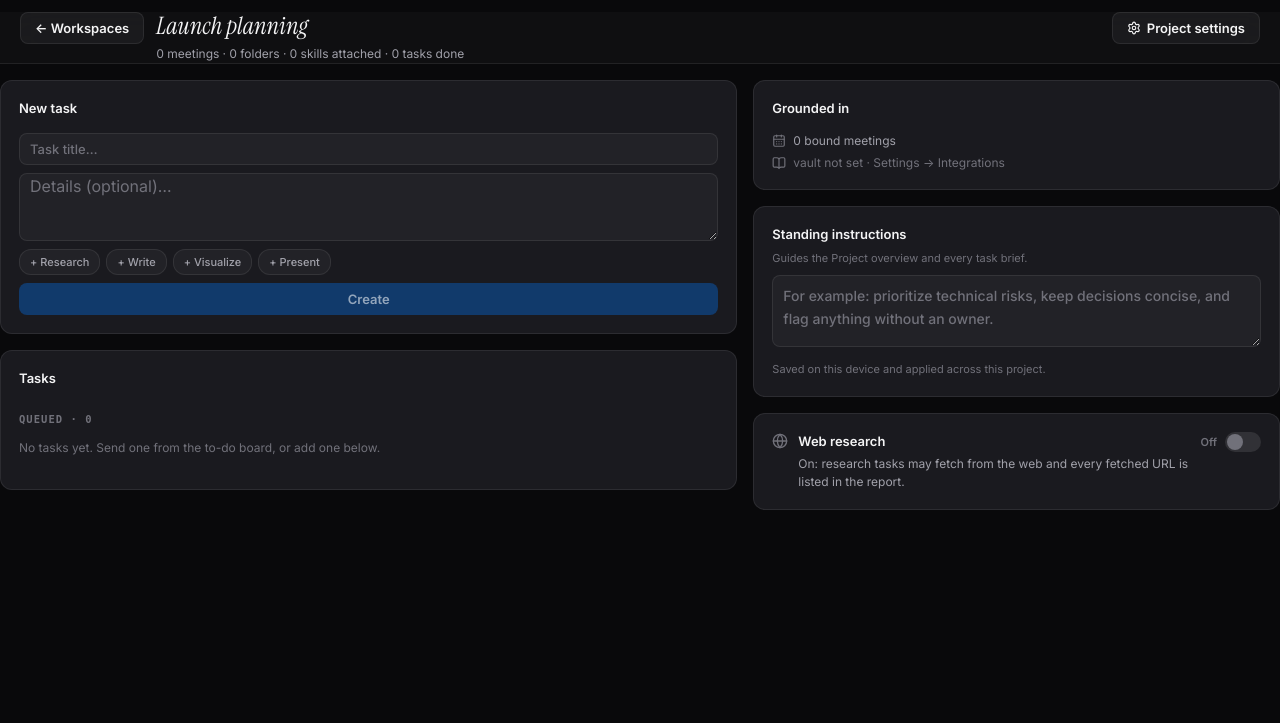
Test: WorkspaceDetailView model selection › does not render the model select for the claude engine
Click the button "Project settings".
click(1186, 28)  # box x1=1112 y1=12 x2=1260 y2=44
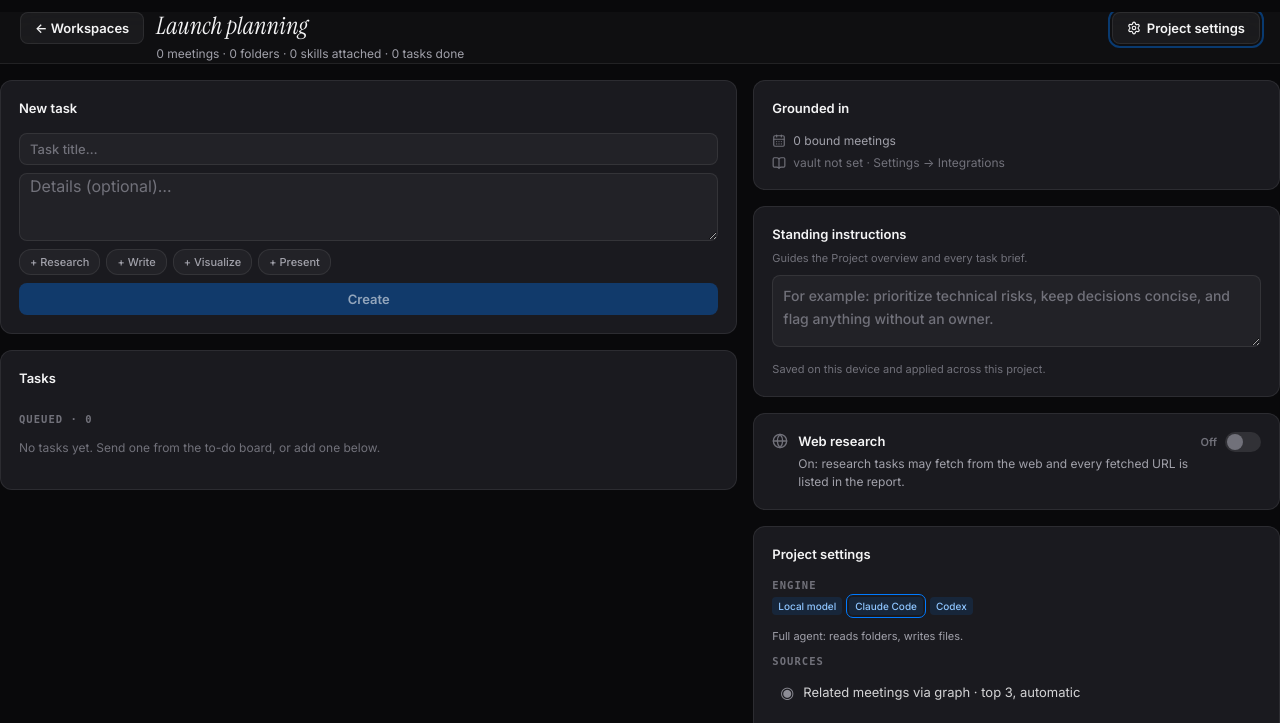
Result: the button "Claude Code" is shown at x1=849 y1=597 x2=923 y2=615
